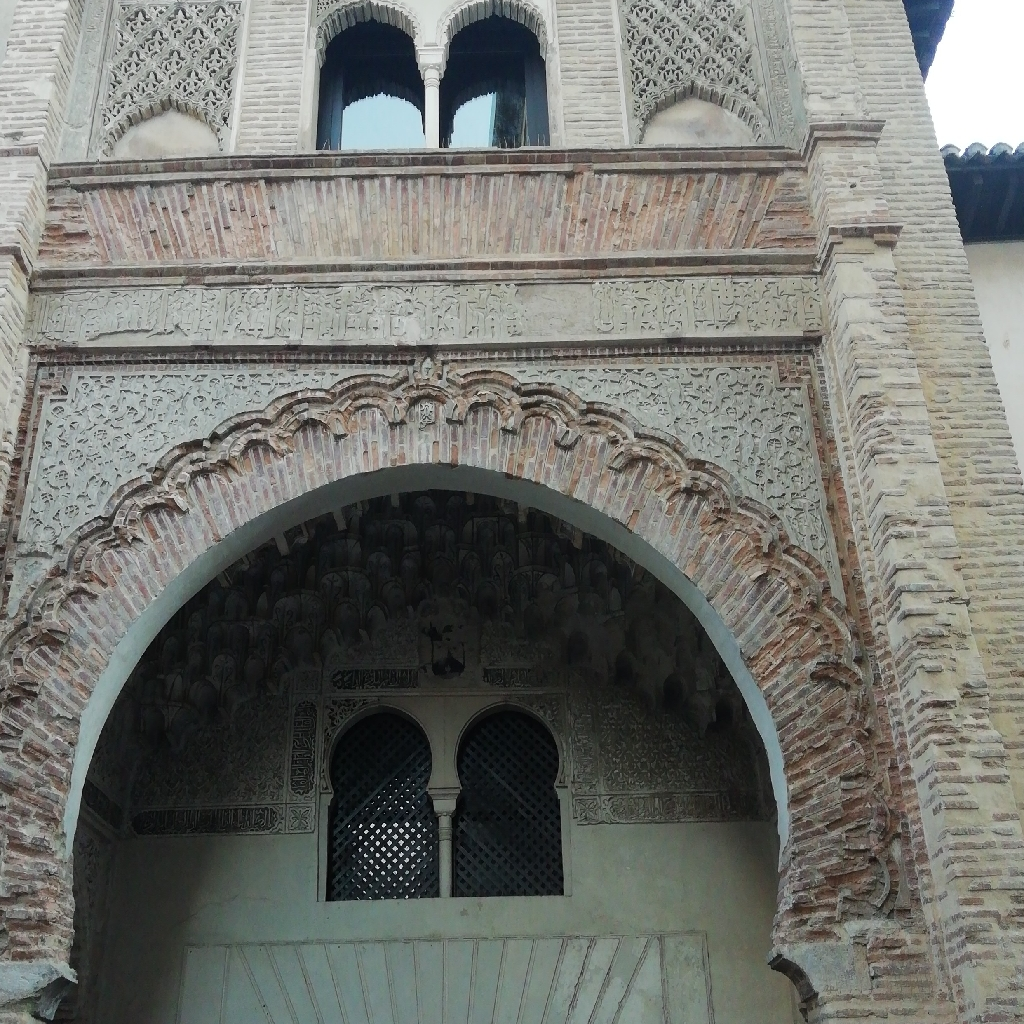arco-herradura: (0, 423, 871, 1024), (318, 696, 445, 810), (446, 694, 570, 808)
dintel-adovelado: (59, 151, 775, 276), (243, 932, 675, 1023)
